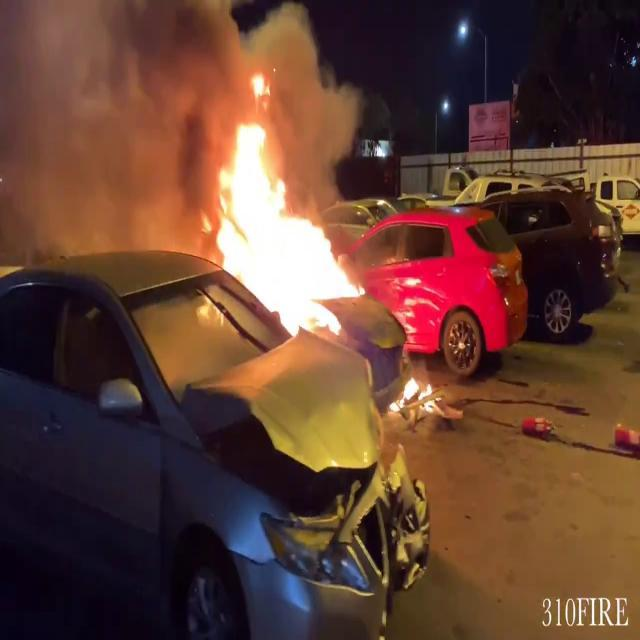Fire: (194, 85, 370, 341)
Smoke: (0, 0, 244, 254)
